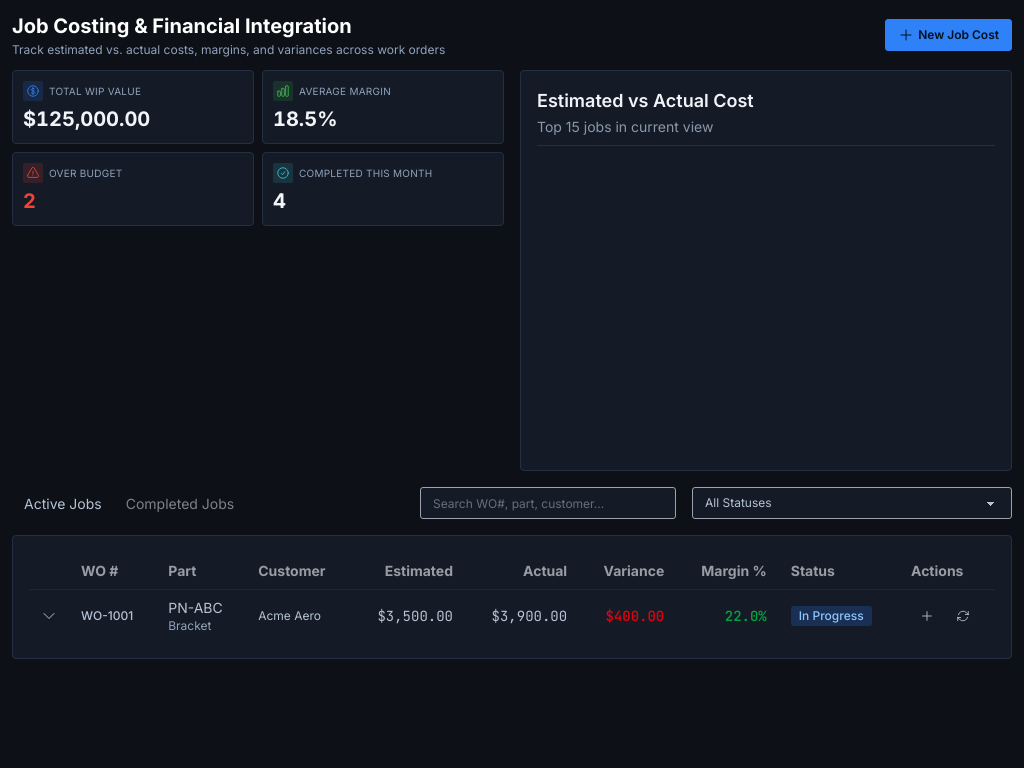
Test case: JobCosting cockpit › keeps the header action primary when a search hides existing job costs
Check: the text "WO-1001" is shown, box 69,590 -> 156,642
Step 1. Type "no-match" into the field named "Search job costs by WO number, part, or customer" → x=548, y=503, box 420,487 -> 676,519
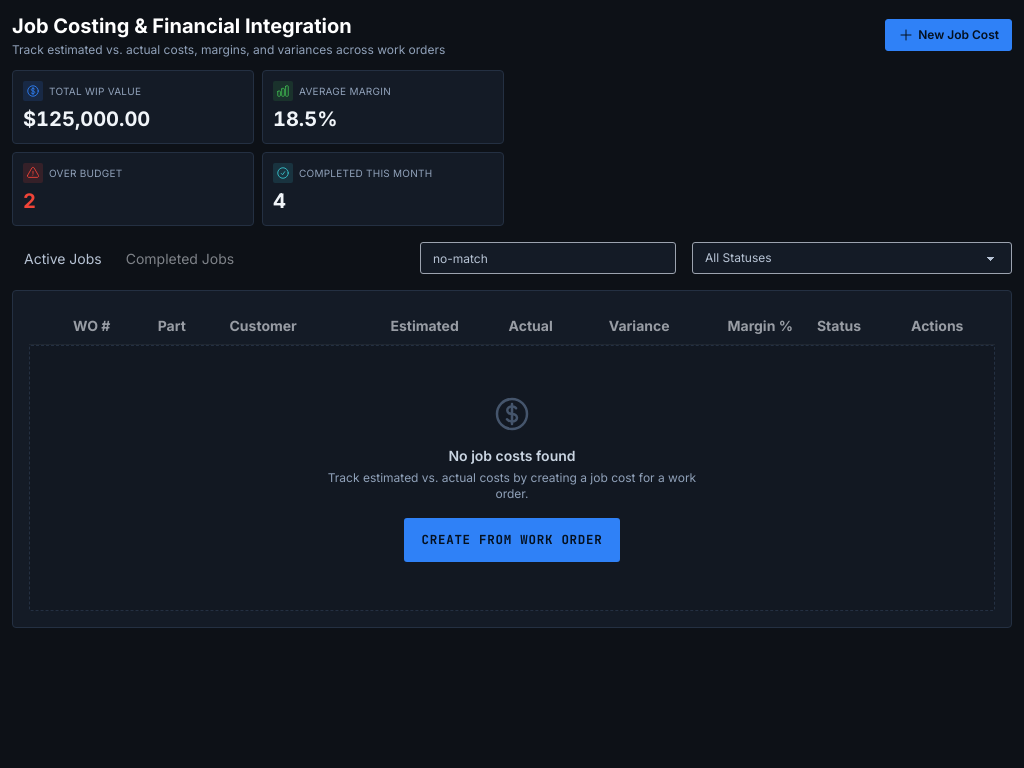
Check: the text "No job costs found" is shown, box 448,446 -> 576,466
